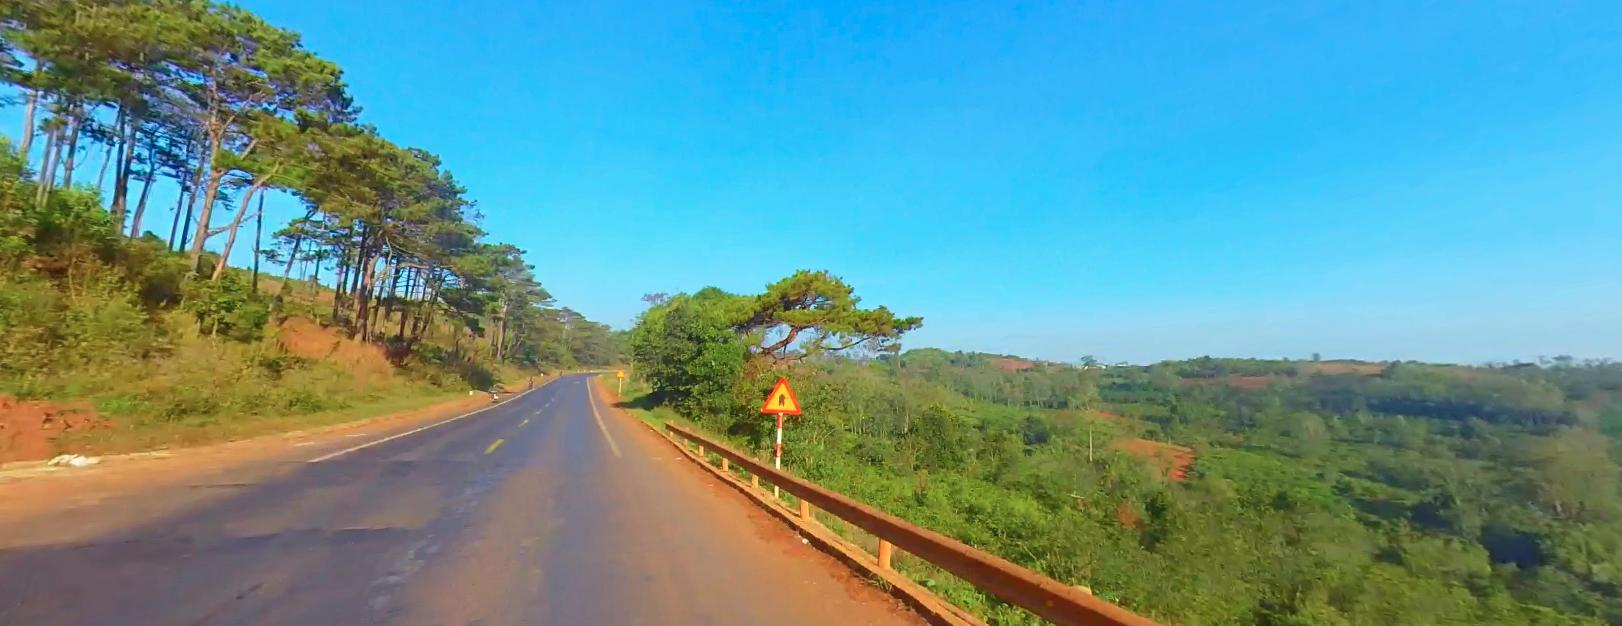Nguy hiem: (758, 372, 802, 416), (760, 374, 801, 412), (615, 367, 625, 375), (615, 369, 623, 375)
